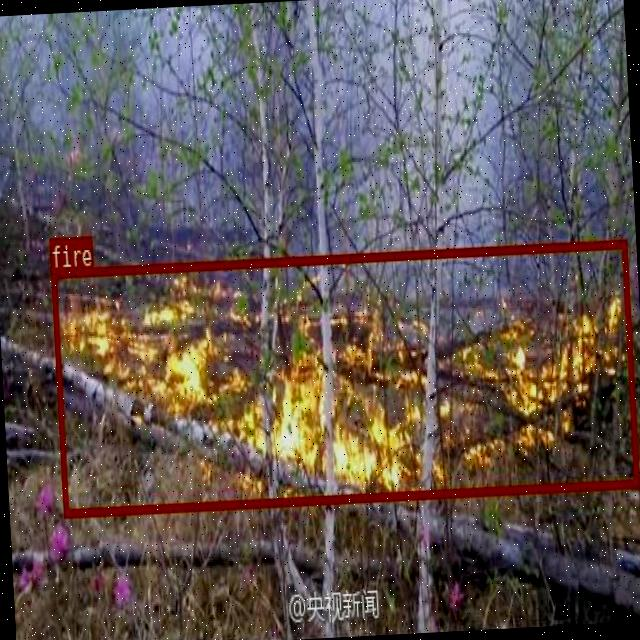fire: (51, 238, 638, 516)
